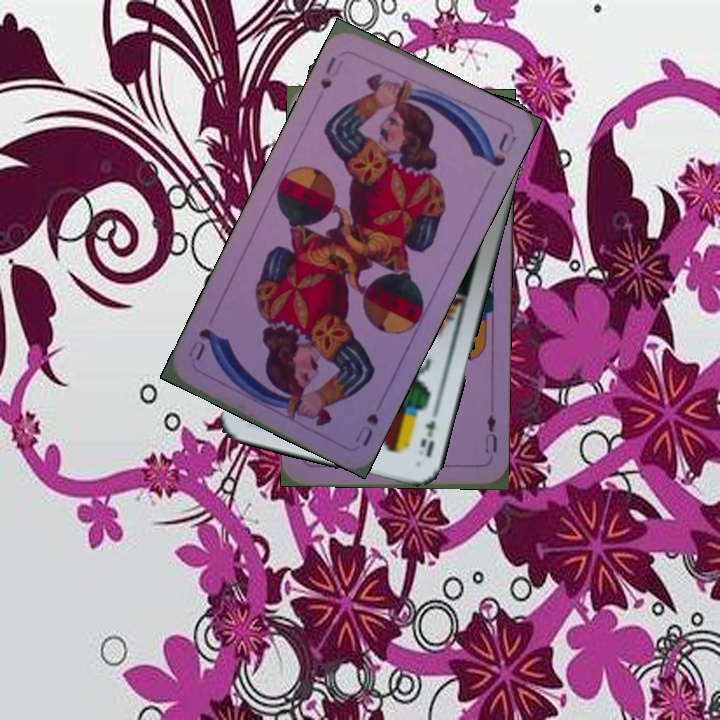EK: (416, 415, 438, 460)
EU: (481, 409, 500, 455)
SU: (315, 53, 347, 92), (351, 409, 381, 449)
